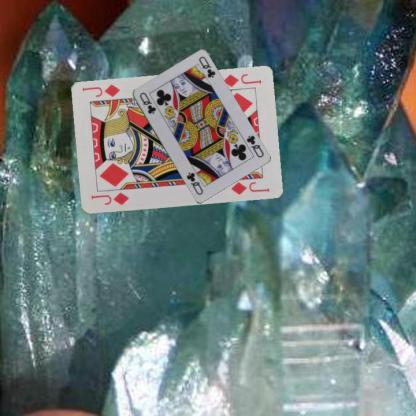Jd: (88, 190, 130, 207), (220, 72, 262, 89)
Qc: (136, 90, 158, 115), (244, 133, 264, 159)
